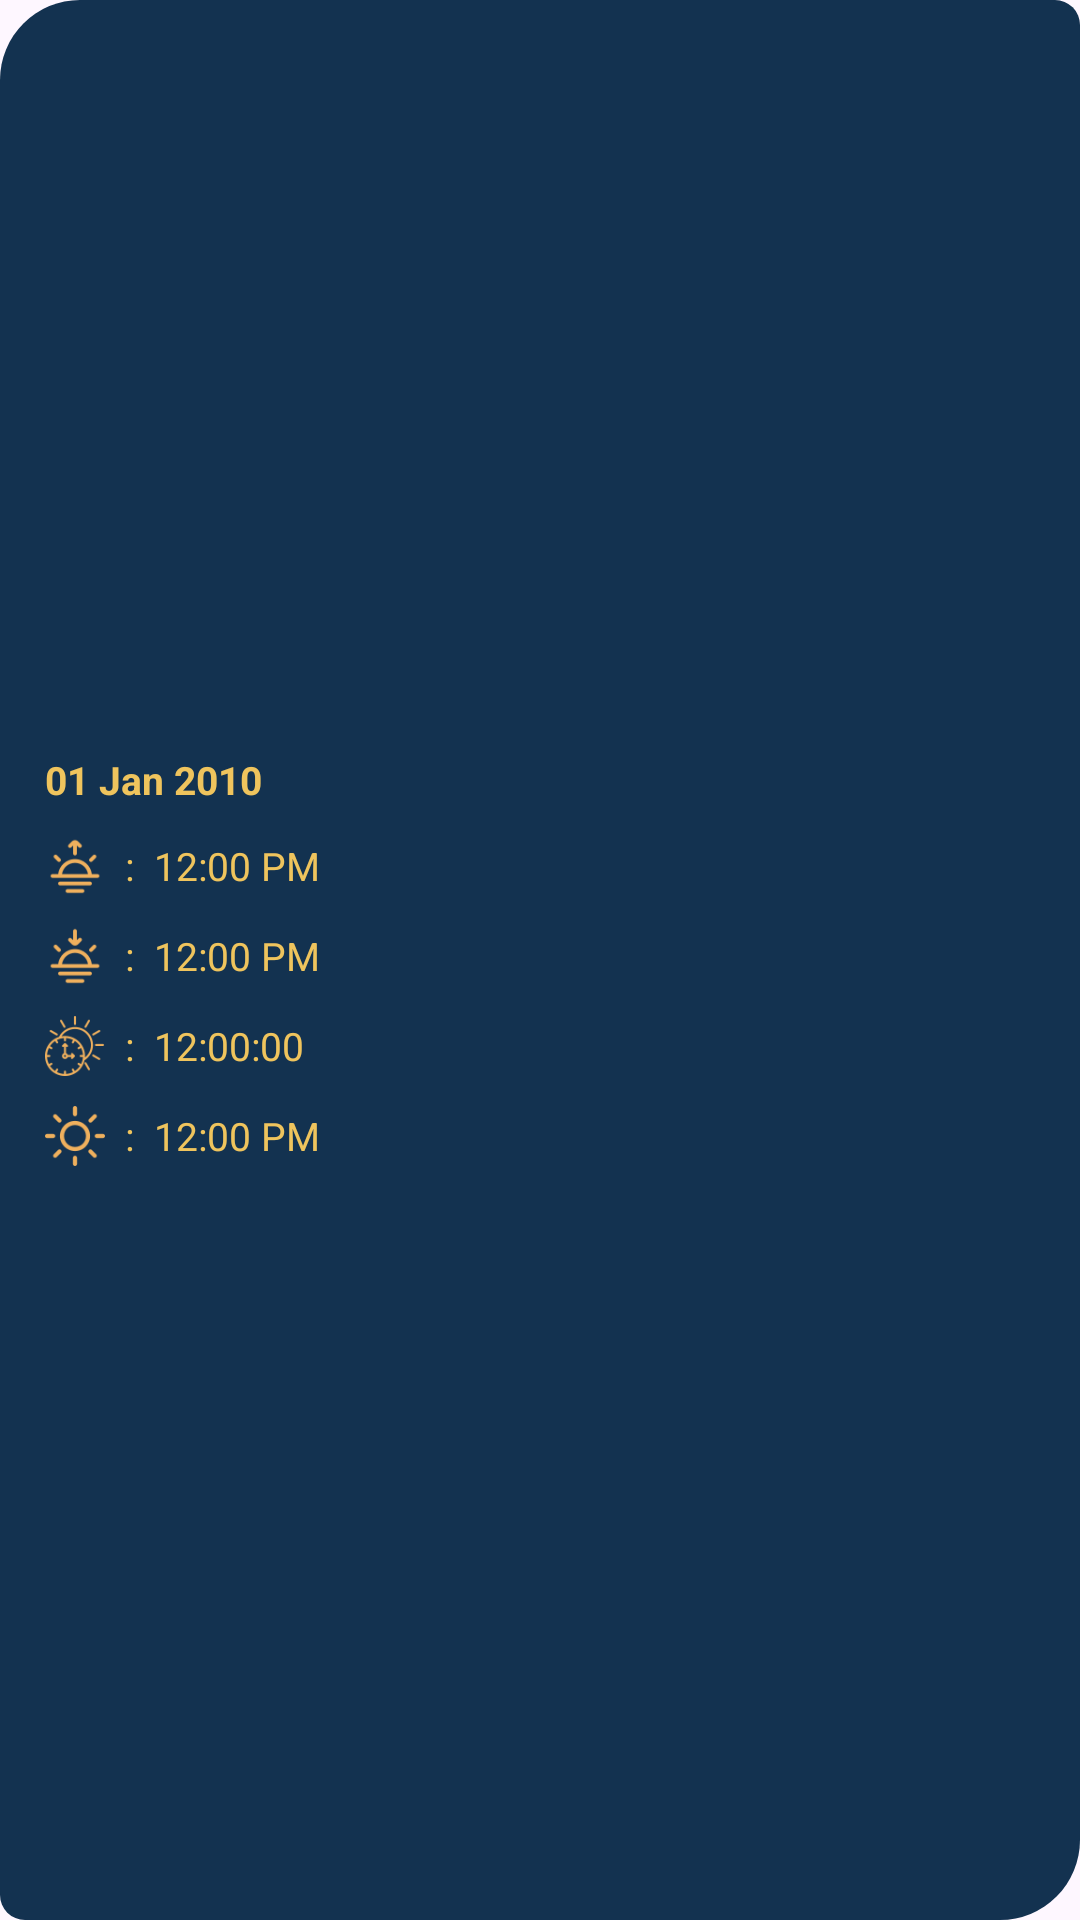

Icon click points for this 1080px x 1920px phone screenshot, format point (x, y):
daylength: point (74, 1046)
sun: point (75, 1136)
sunrise: point (75, 866)
sunset: point (75, 956)
